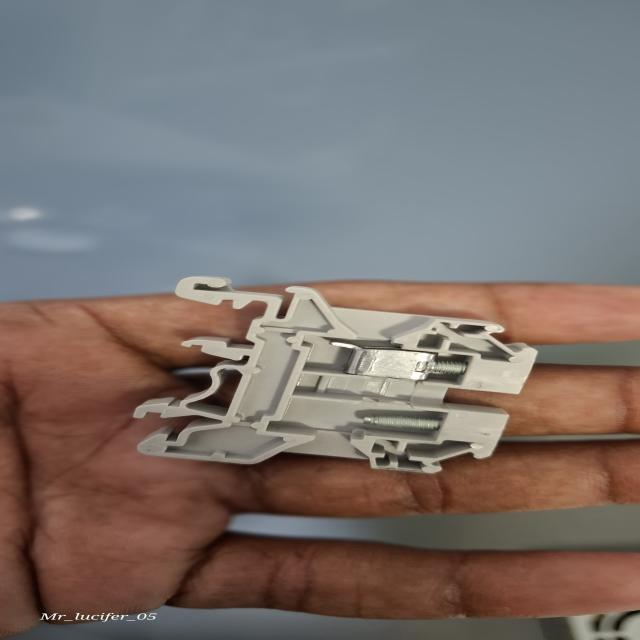Reject: (134, 275, 547, 483)
